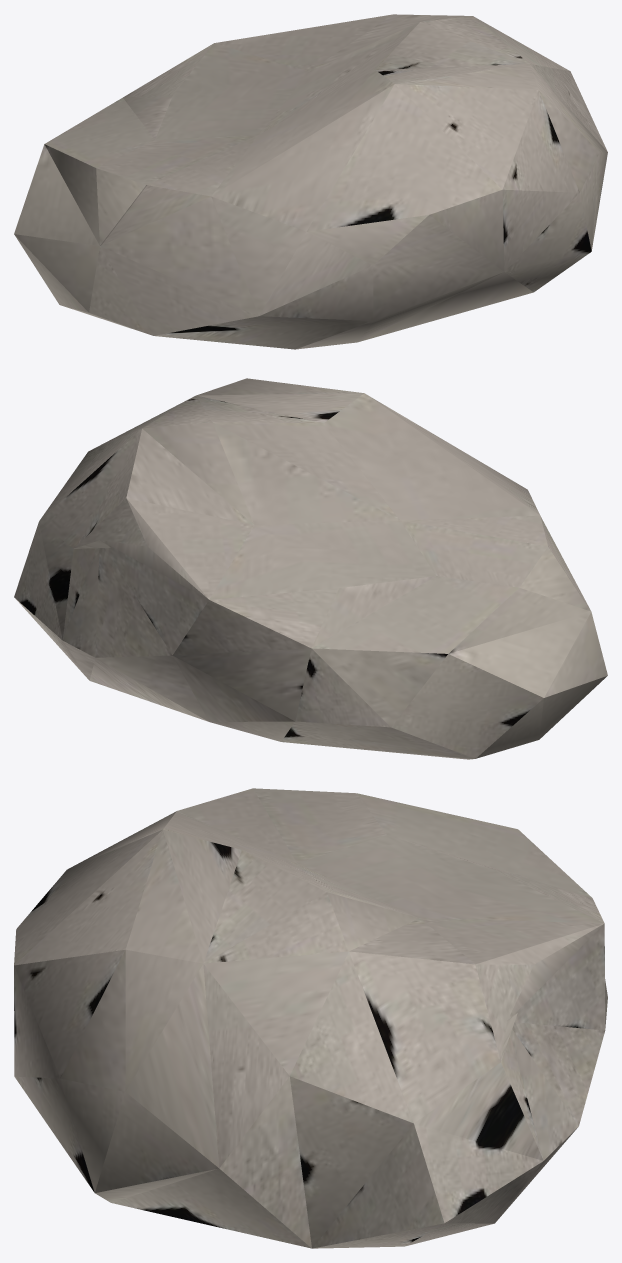
The model's file is co_rounded_limestone_lod2.glb.
The picture shows the model from 3 angles, top to bottom: view 1: azimuth 30°, elevation 25°; view 2: azimuth 150°, elevation 25°; view 3: azimuth 270°, elevation 25°; orthographic projection. The views are drawn at different scales.
Visible parts, largest first — view 1: output_unwrapped; view 2: output_unwrapped; view 3: output_unwrapped.
Boxes of the visible parts, bbox=[...] form: output_unwrapped: bbox=[14, 14, 607, 349]; output_unwrapped: bbox=[14, 378, 607, 759]; output_unwrapped: bbox=[14, 788, 607, 1248].
Bounding box in the file's own units: 1.86 × 0.7913 × 1.39.
1 material, 1 textured.
